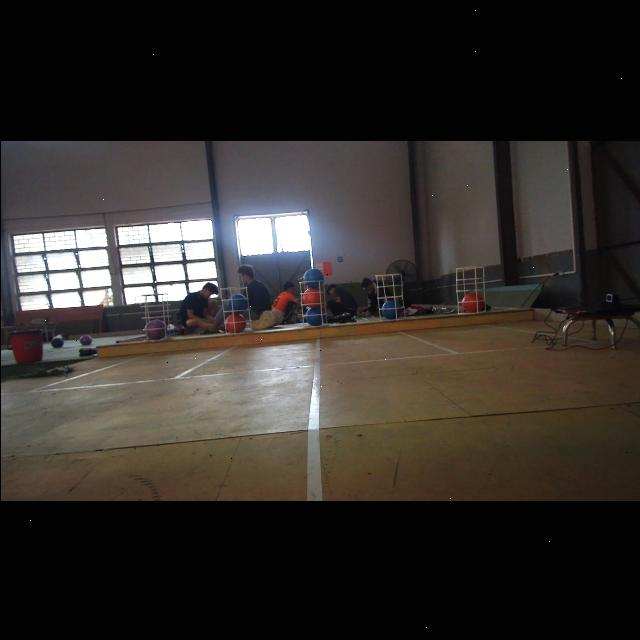B: (303, 306, 325, 326), (227, 292, 247, 312), (381, 300, 401, 318), (303, 268, 323, 286)
R: (302, 287, 322, 307), (224, 313, 244, 333), (460, 292, 482, 310)
